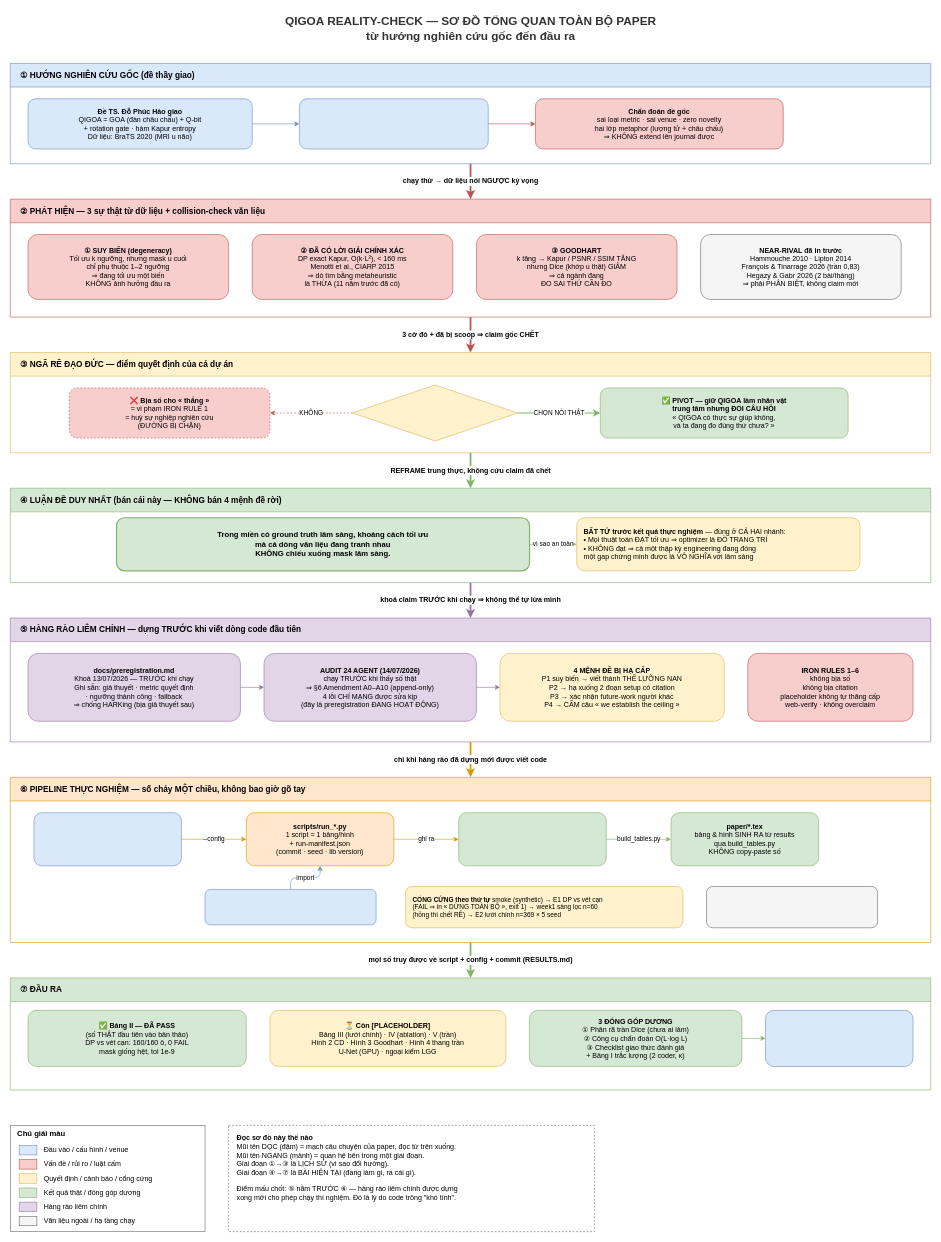
The diagram is 941 pixels wide and 1242 high, and some of its shapes have lost their labels. Here are the shapes that lost their labels. From the top down, the centre of each, then its label:
pixel 393 123: Câu hỏi GỐC « QIGOA có THẮNG các metaheuristic khác không? »
pixel 435 412: Dữ liệu nói ngược kỳ vọng ⇒ làm gì?
pixel 107 839: configs/*.yaml 1 file = 1 thí nghiệm seed · k · ngân sách NFE KHÔNG magic number
pixel 532 839: results/*.csv có banner nguồn gốc KHÔNG sửa tay synthetic ⇒ [PLACEHOLDER]
pixel 290 907: src/ — động cơ khoa học fitness · solvers · decode · eval · data
pixel 792 907: Kaggle — 4 notebook = 4 giai đoạn (12 h/phiên · CPU vs GPU · resume)
pixel 839 1038: VENUE BSPC → ESWA → Sci Reports + arXiv preprint NGAY ngày nộp (cắm cọc ưu tiên)
